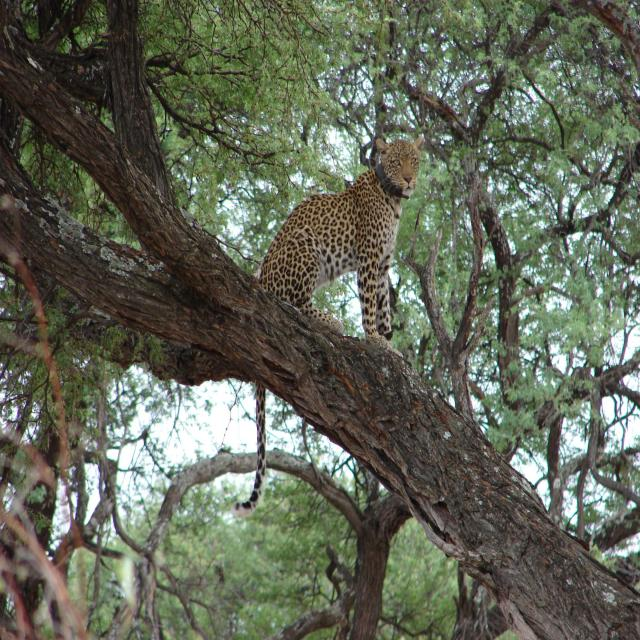Leopard: (219, 126, 413, 477)
